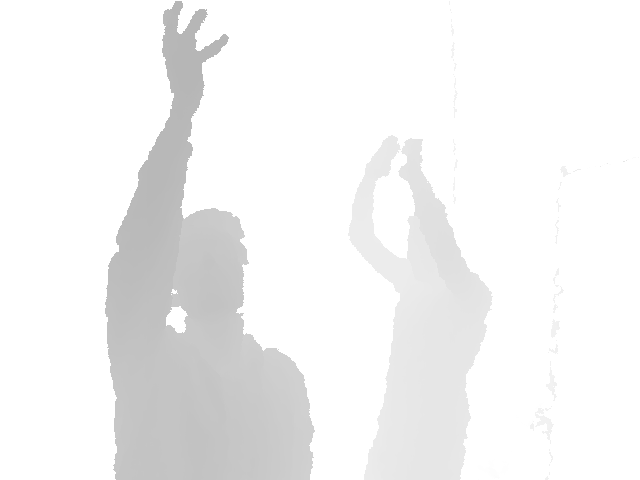hand: (161, 1, 228, 120), (363, 134, 400, 185), (398, 134, 424, 189)
head: (170, 205, 247, 337), (405, 204, 445, 276)
person: (103, 1, 316, 480), (348, 135, 494, 480)
